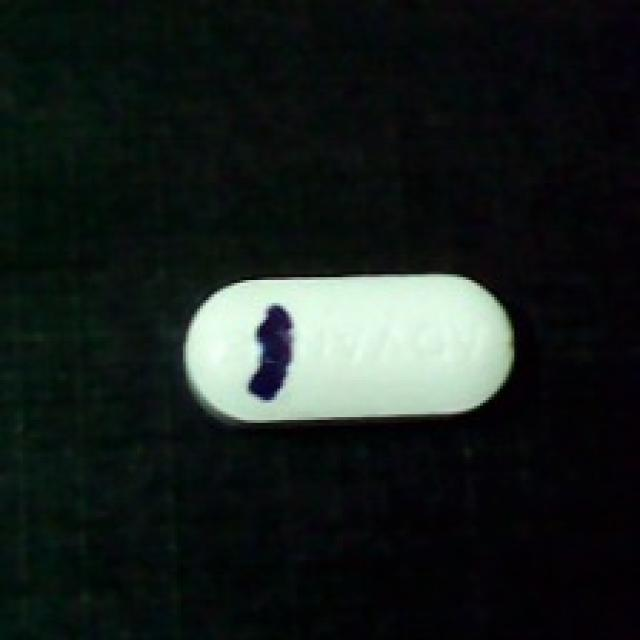defected: (174, 269, 517, 434)
